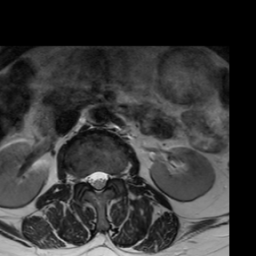CCS_normal: (94, 163, 102, 199)
LFS_stenosis: (110, 163, 119, 185)
LLS_normal: (102, 163, 110, 192)
RFS_stenosis: (79, 166, 86, 190)
RLS_normal: (86, 163, 94, 193)
